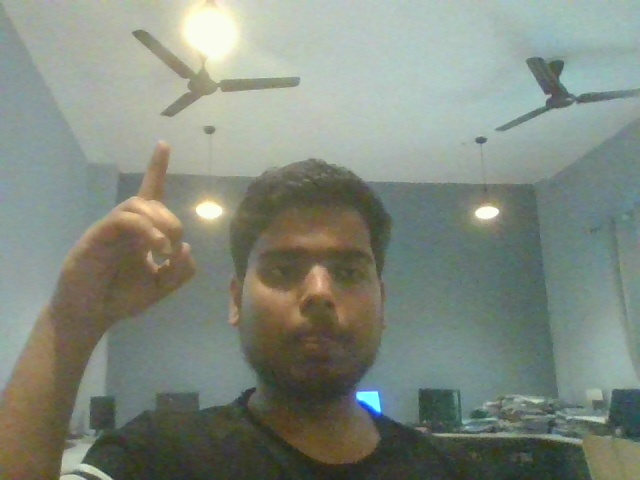D: (29, 120, 220, 342)
